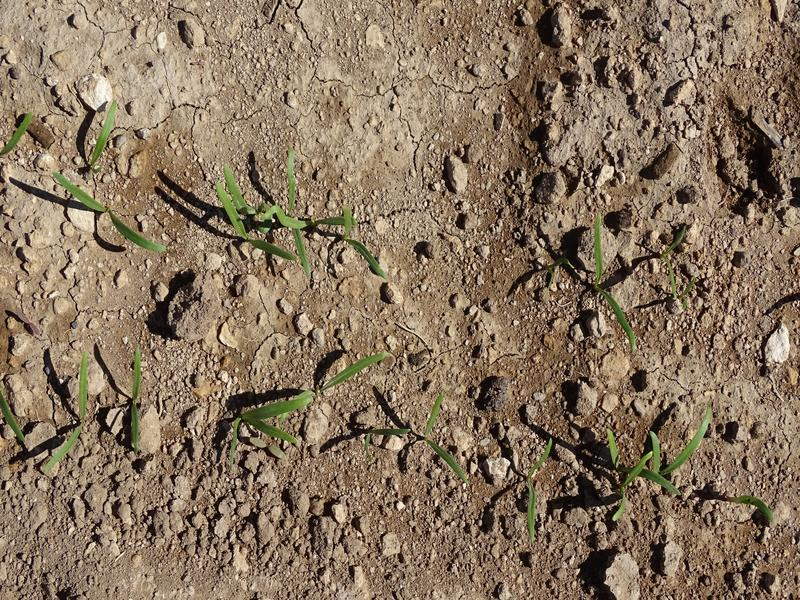Espinaca: (204, 164, 386, 282), (592, 422, 718, 513), (582, 213, 656, 355), (50, 170, 169, 258), (376, 399, 476, 486), (37, 350, 98, 478), (221, 388, 313, 459), (123, 348, 155, 450), (519, 446, 548, 548), (83, 100, 121, 167)
